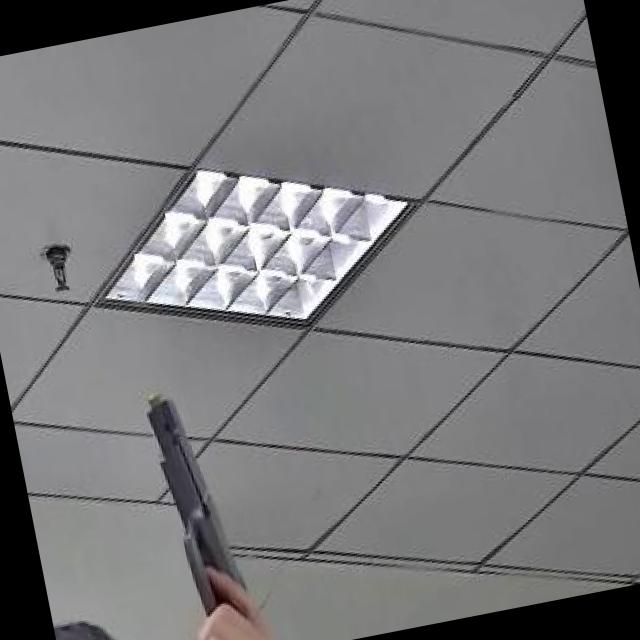Guns: (114, 361, 271, 640)
